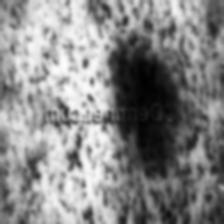Potentially Malignant Skin Tumors: (118, 48, 178, 178)
